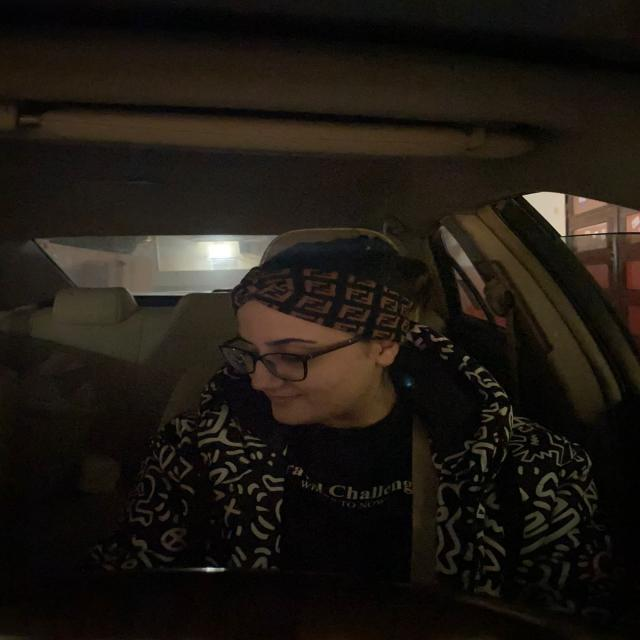drowsy: (215, 235, 439, 433)
